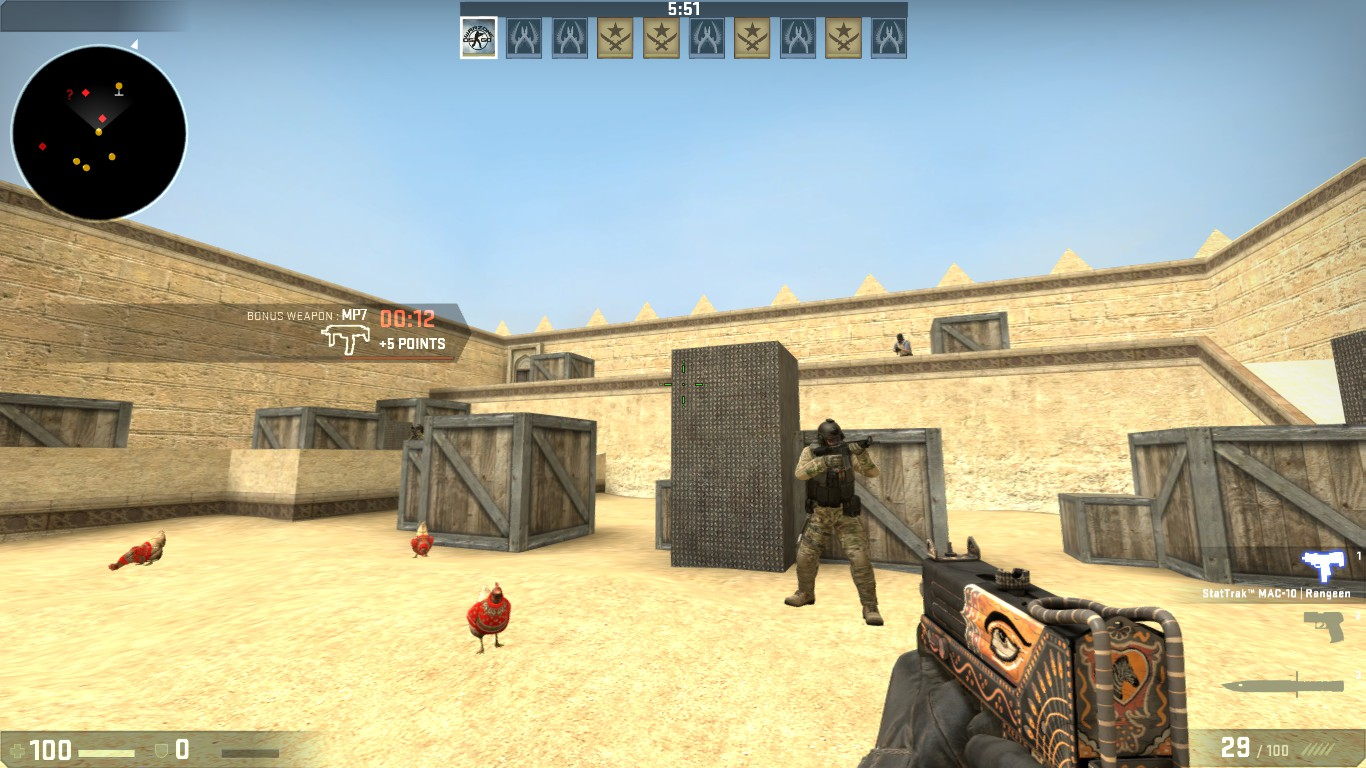c: (792, 413, 872, 620)
ch: (813, 416, 848, 455)
t: (891, 333, 914, 358)
th: (895, 332, 904, 343)
